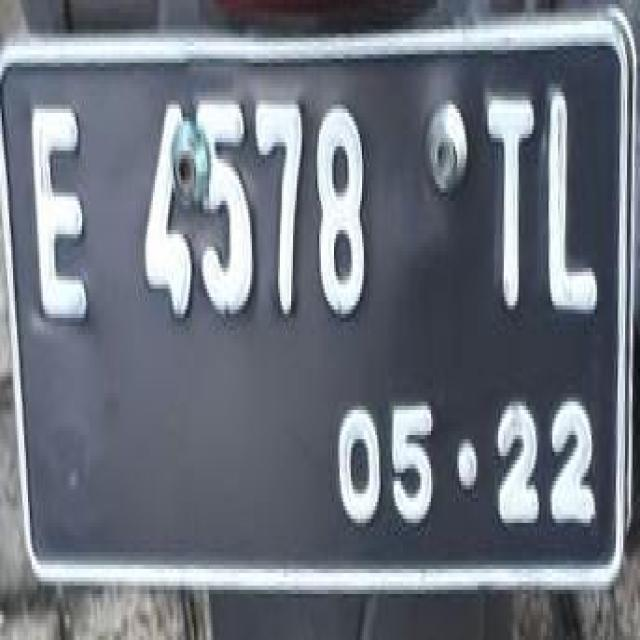4: (139, 94, 193, 349)
5: (190, 85, 256, 354)
7: (253, 81, 309, 358)
8: (307, 90, 374, 362)
E: (25, 94, 94, 345)
L: (538, 67, 604, 335)
T: (474, 78, 540, 328)
